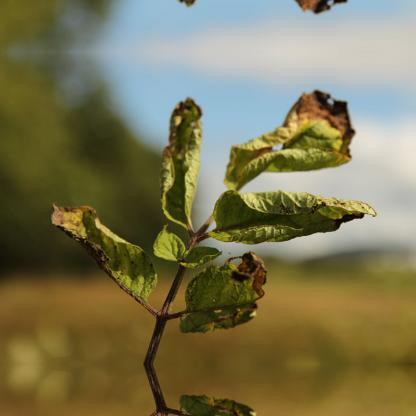Early-Blight: (38, 196, 158, 310), (197, 238, 295, 348), (265, 75, 370, 161), (150, 92, 226, 194), (276, 182, 388, 246), (197, 380, 295, 416), (265, 0, 370, 29)
